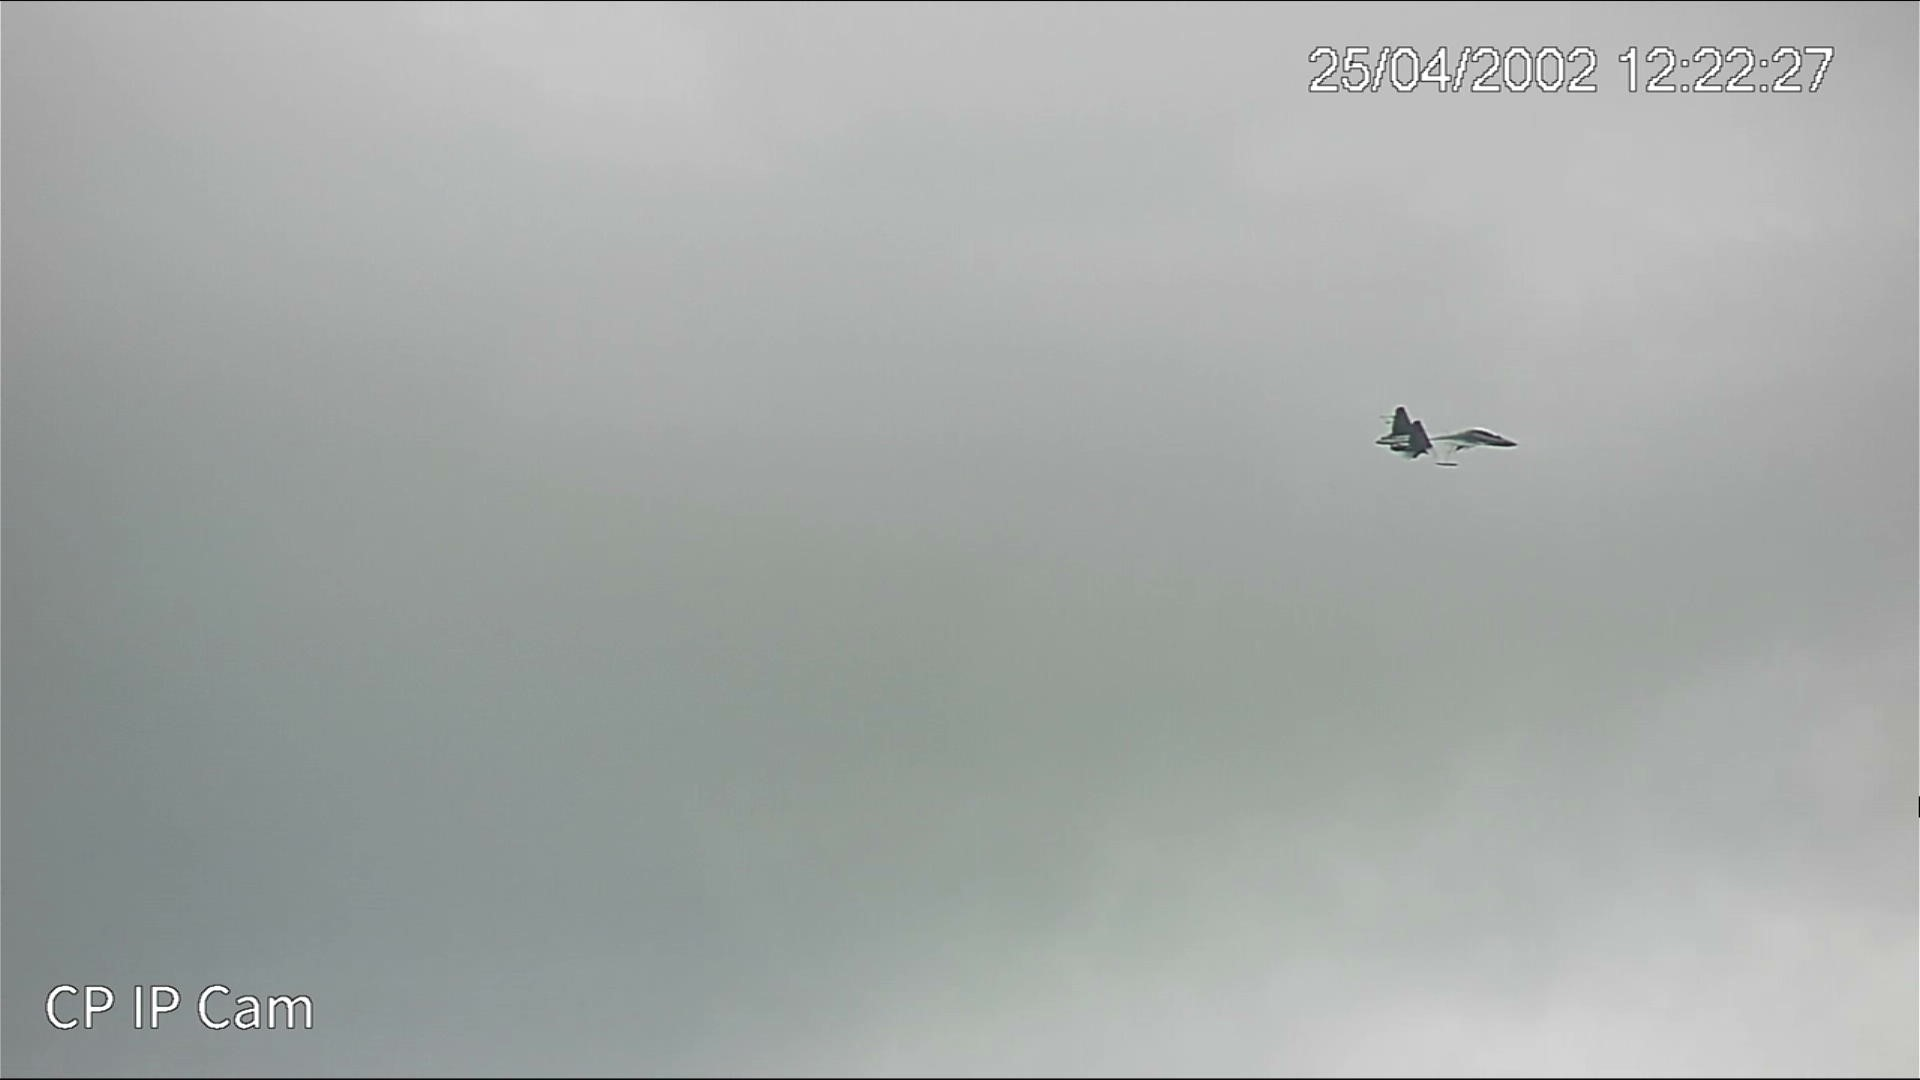SU_30: (1365, 398, 1520, 469)
